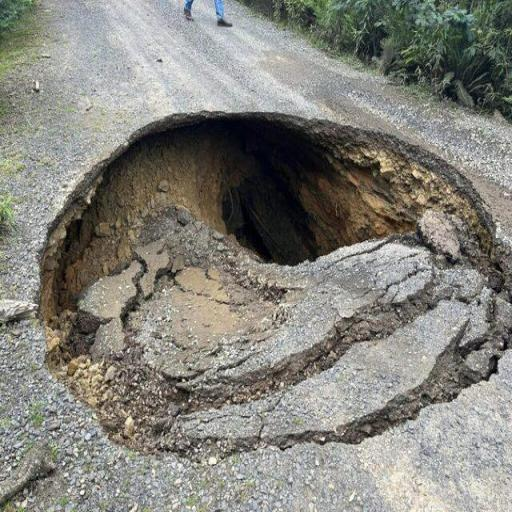Concentric_Crack: (41, 112, 512, 457)
